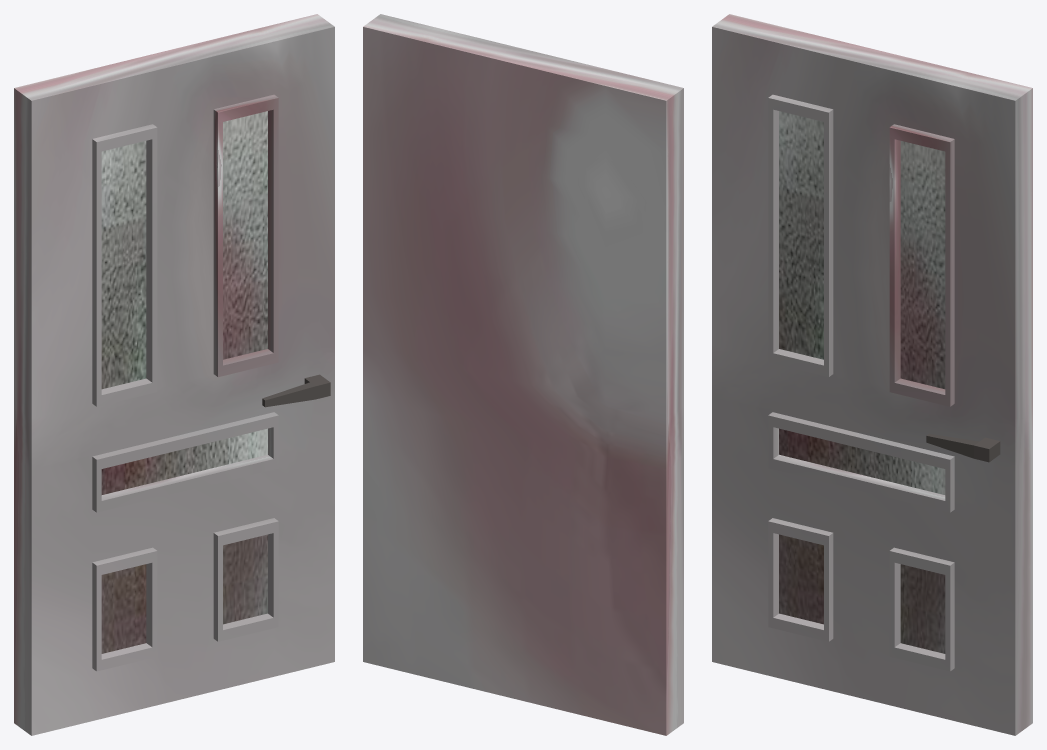
File: Puerta_17.fbx
3 views of the same model, side by side, from view 1: azimuth 30°, elevation 25°; view 2: azimuth 150°, elevation 25°; view 3: azimuth 330°, elevation 25° (orthographic).
Parts seen in each view (by area): view 1: Cube.011; view 2: Cube.011; view 3: Cube.011.
Boxes of the visible parts, x1=… form: Cube.011: x1=14, y1=14, x2=334, y2=735; Cube.011: x1=363, y1=14, x2=683, y2=735; Cube.011: x1=712, y1=14, x2=1032, y2=735.
Bounding box in the file's own units: 200 × 400 × 32.54.
